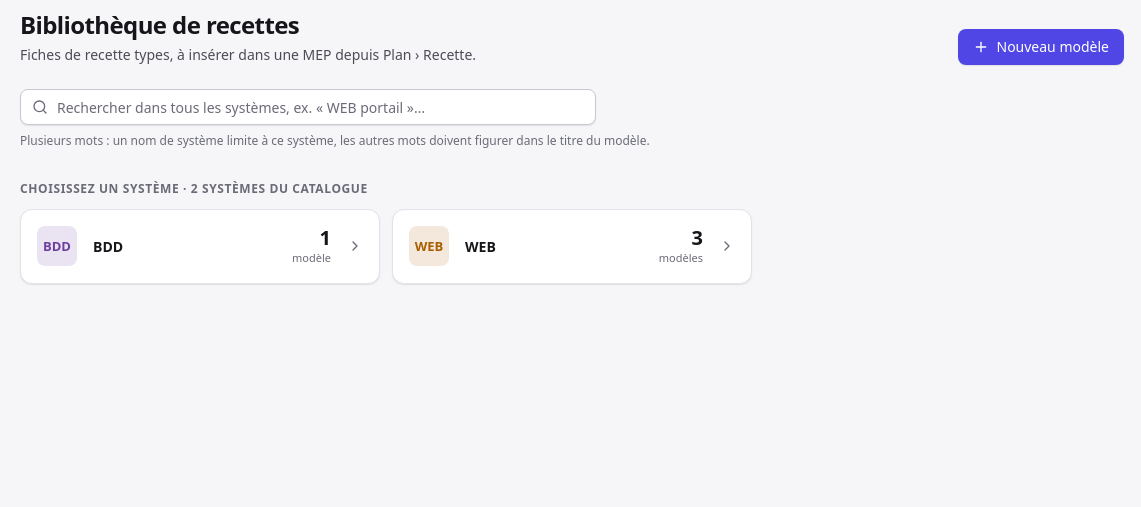
Scenario: Bibliothèque de recettes › cherche dans tous les systèmes : un nom de système filtre, les autres mots portent sur le titre
Expected: the link with aria-label "WEB : 3 modèles" is shown, [392,209,752,284]
Type "web portail" into the search field named "Rechercher dans la bibliothèque" at (308, 107), box [20,89,596,125]
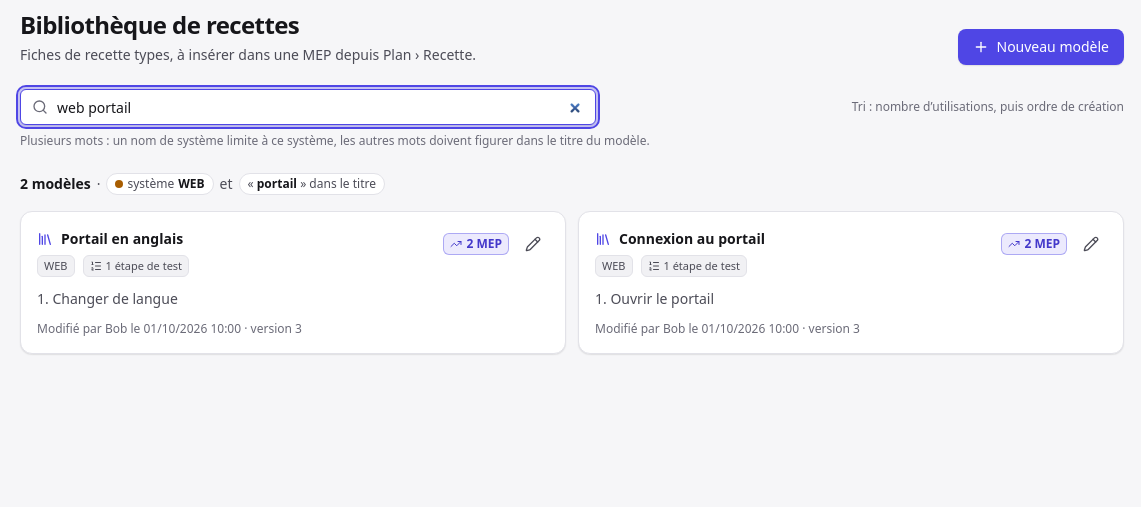
Result: the message shows "2 modèles" at [20,174,91,193]
Result: the headings read "Portail en anglais", "Connexion au portail", in this order at [37,228,189,249]; [595,228,765,249]
Replace the text in the search field named "Rechercher dans la bibliothèque" with "téléphone" at (308, 107), box [20,89,596,125]
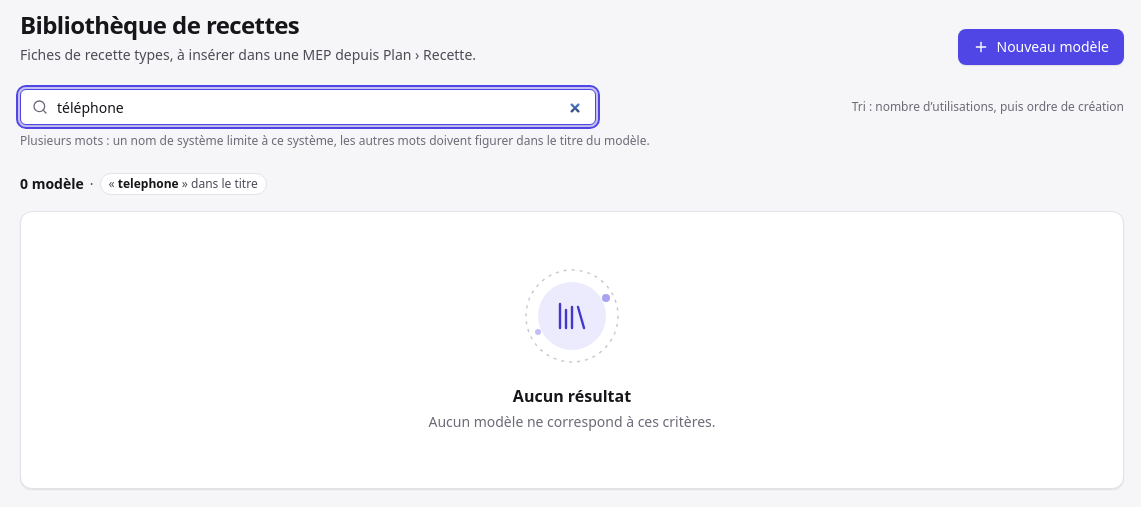
Result: the message shows "0 modèle" at [20,174,84,193]
